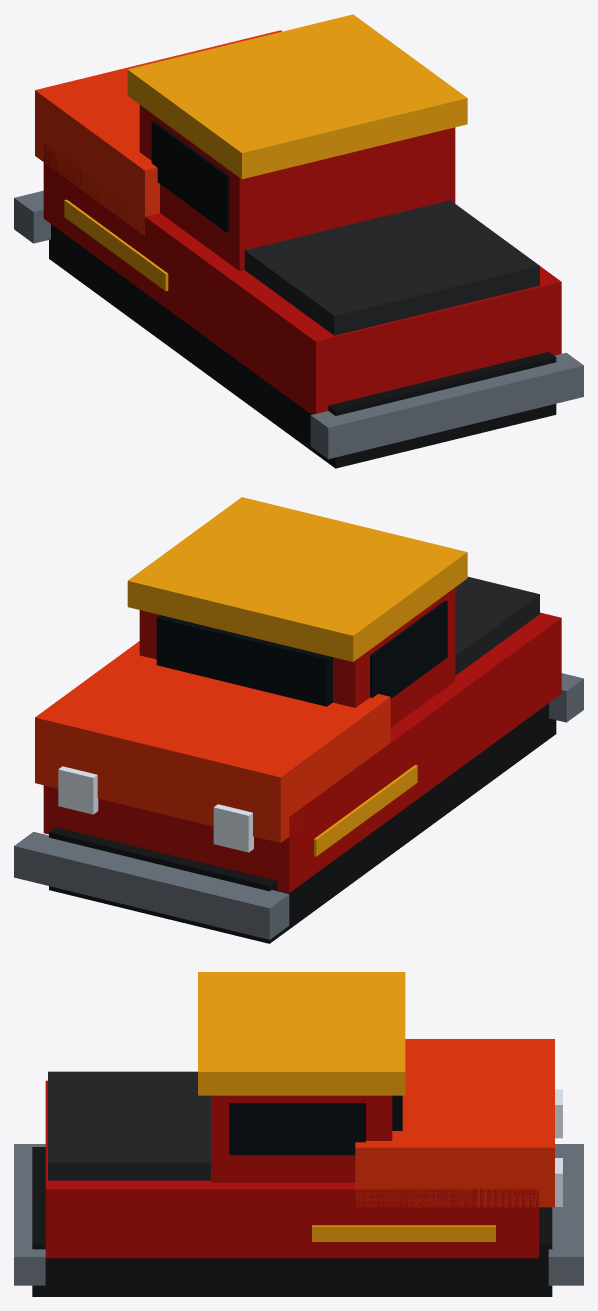
Rendered from MonsterTruckBody.obj.
3 renders of one model, top to bottom at view 1: azimuth 30°, elevation 25°; view 2: azimuth 150°, elevation 25°; view 3: azimuth 270°, elevation 25°, orthographic. The views are drawn at different scales.
Bounding box in the file's own units: 2.04 × 1.9 × 4.34.
